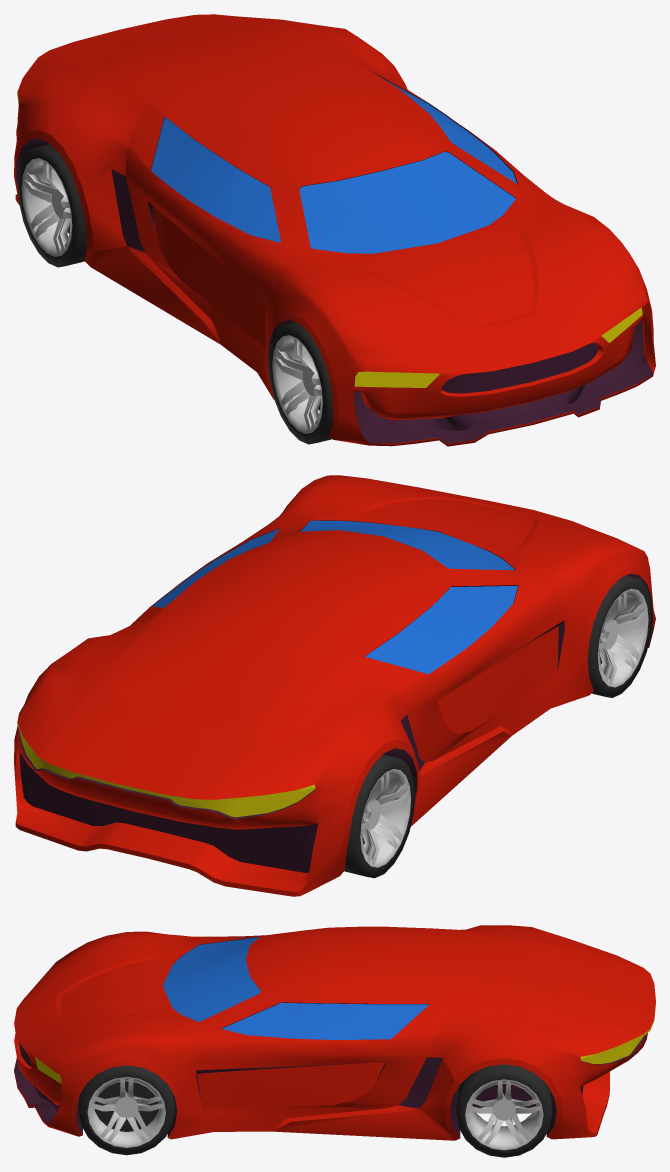
The model's file is Car High.fbx.
3 views of the same model, one above another, from view 1: azimuth 30°, elevation 25°; view 2: azimuth 150°, elevation 25°; view 3: azimuth 270°, elevation 25° (orthographic). The views are drawn at different scales.
Visible parts, largest first — view 1: body6, wheel_BR, wheel_FR; view 2: body6, wheel_BR, wheel_FR; view 3: body6, wheel_FL, wheel_BL.
Part boxes in pixels (x1,y1,x2,y2): body6: [14, 14, 655, 446]; wheel_BR: [17, 143, 87, 267]; wheel_FR: [268, 322, 332, 444]; body6: [14, 475, 655, 896]; wheel_BR: [344, 754, 415, 878]; wheel_FR: [587, 575, 652, 697]; body6: [14, 925, 655, 1140]; wheel_FL: [79, 1065, 174, 1155]; wheel_BL: [456, 1064, 552, 1157].
Size of the model in its own units: 2.08 by 1.09 by 4.4.
